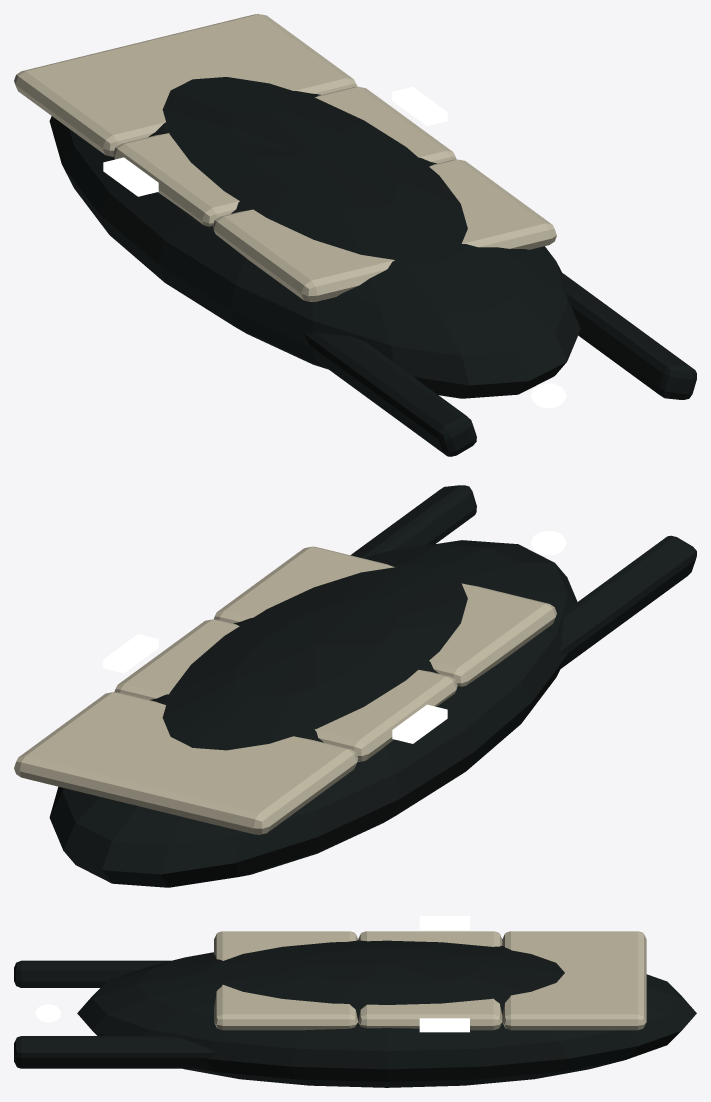
The picture shows the model from 3 angles, top to bottom: view 1: azimuth 30°, elevation 25°; view 2: azimuth 150°, elevation 25°; view 3: azimuth 270°, elevation 25°; orthographic projection. The views are drawn at different scales.
Visible parts, largest first — view 1: RIMWARD_HULL, RIMWARD_EMISSIVE, RIMWARD_ENGINE_GLOW; view 2: RIMWARD_HULL, RIMWARD_EMISSIVE, RIMWARD_ENGINE_GLOW; view 3: RIMWARD_HULL, RIMWARD_EMISSIVE, RIMWARD_ENGINE_GLOW.
Boxes of the visible parts, left/top/right/bottom form: RIMWARD_HULL: left=14, top=14, right=696, bottom=456; RIMWARD_EMISSIVE: left=103, top=87, right=447, bottom=196; RIMWARD_ENGINE_GLOW: left=531, top=383, right=566, bottom=408; RIMWARD_HULL: left=14, top=485, right=696, bottom=887; RIMWARD_EMISSIVE: left=103, top=634, right=447, bottom=743; RIMWARD_ENGINE_GLOW: left=531, top=530, right=566, bottom=555; RIMWARD_HULL: left=14, top=931, right=696, bottom=1087; RIMWARD_EMISSIVE: left=419, top=916, right=469, bottom=1032; RIMWARD_ENGINE_GLOW: left=35, top=1004, right=61, bottom=1022.
Size of the model in its own units: 2.65 by 1.09 by 6.82.
